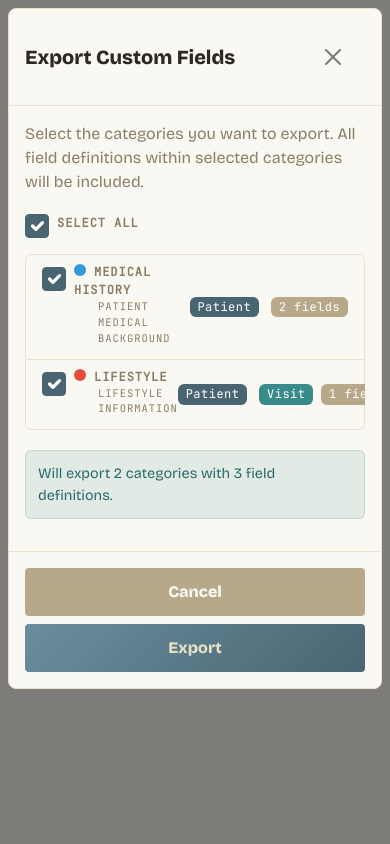
Test case: ExportCustomFieldsModal › Modal behavior › dismisses error alert
What coordinates should you click on to do the following:
click the button "Export"
I would click on:
 (195, 648)
Its box is [25,624,365,672].
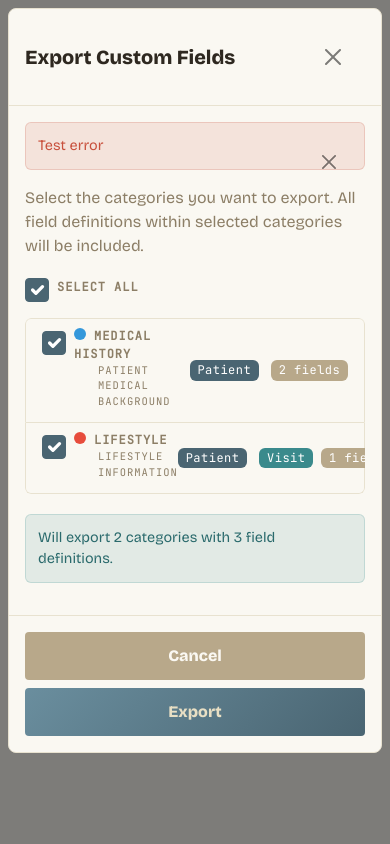
Now the text "Test error" is shown, box [25,122,365,170]
# Find the error alert (the one containing "Test error")
What coordinates should you click on to do the following:
click the 2nd button with class "btn-close"
I would click on:
 (329, 162)
Its box is [294,123,364,201].
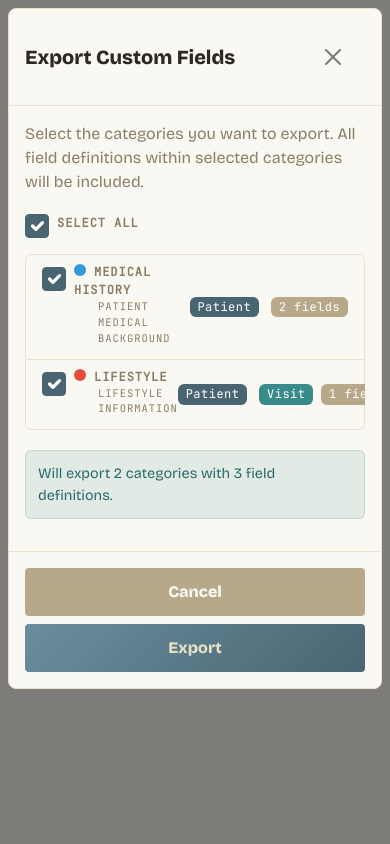
Now the text "Test error" is gone
